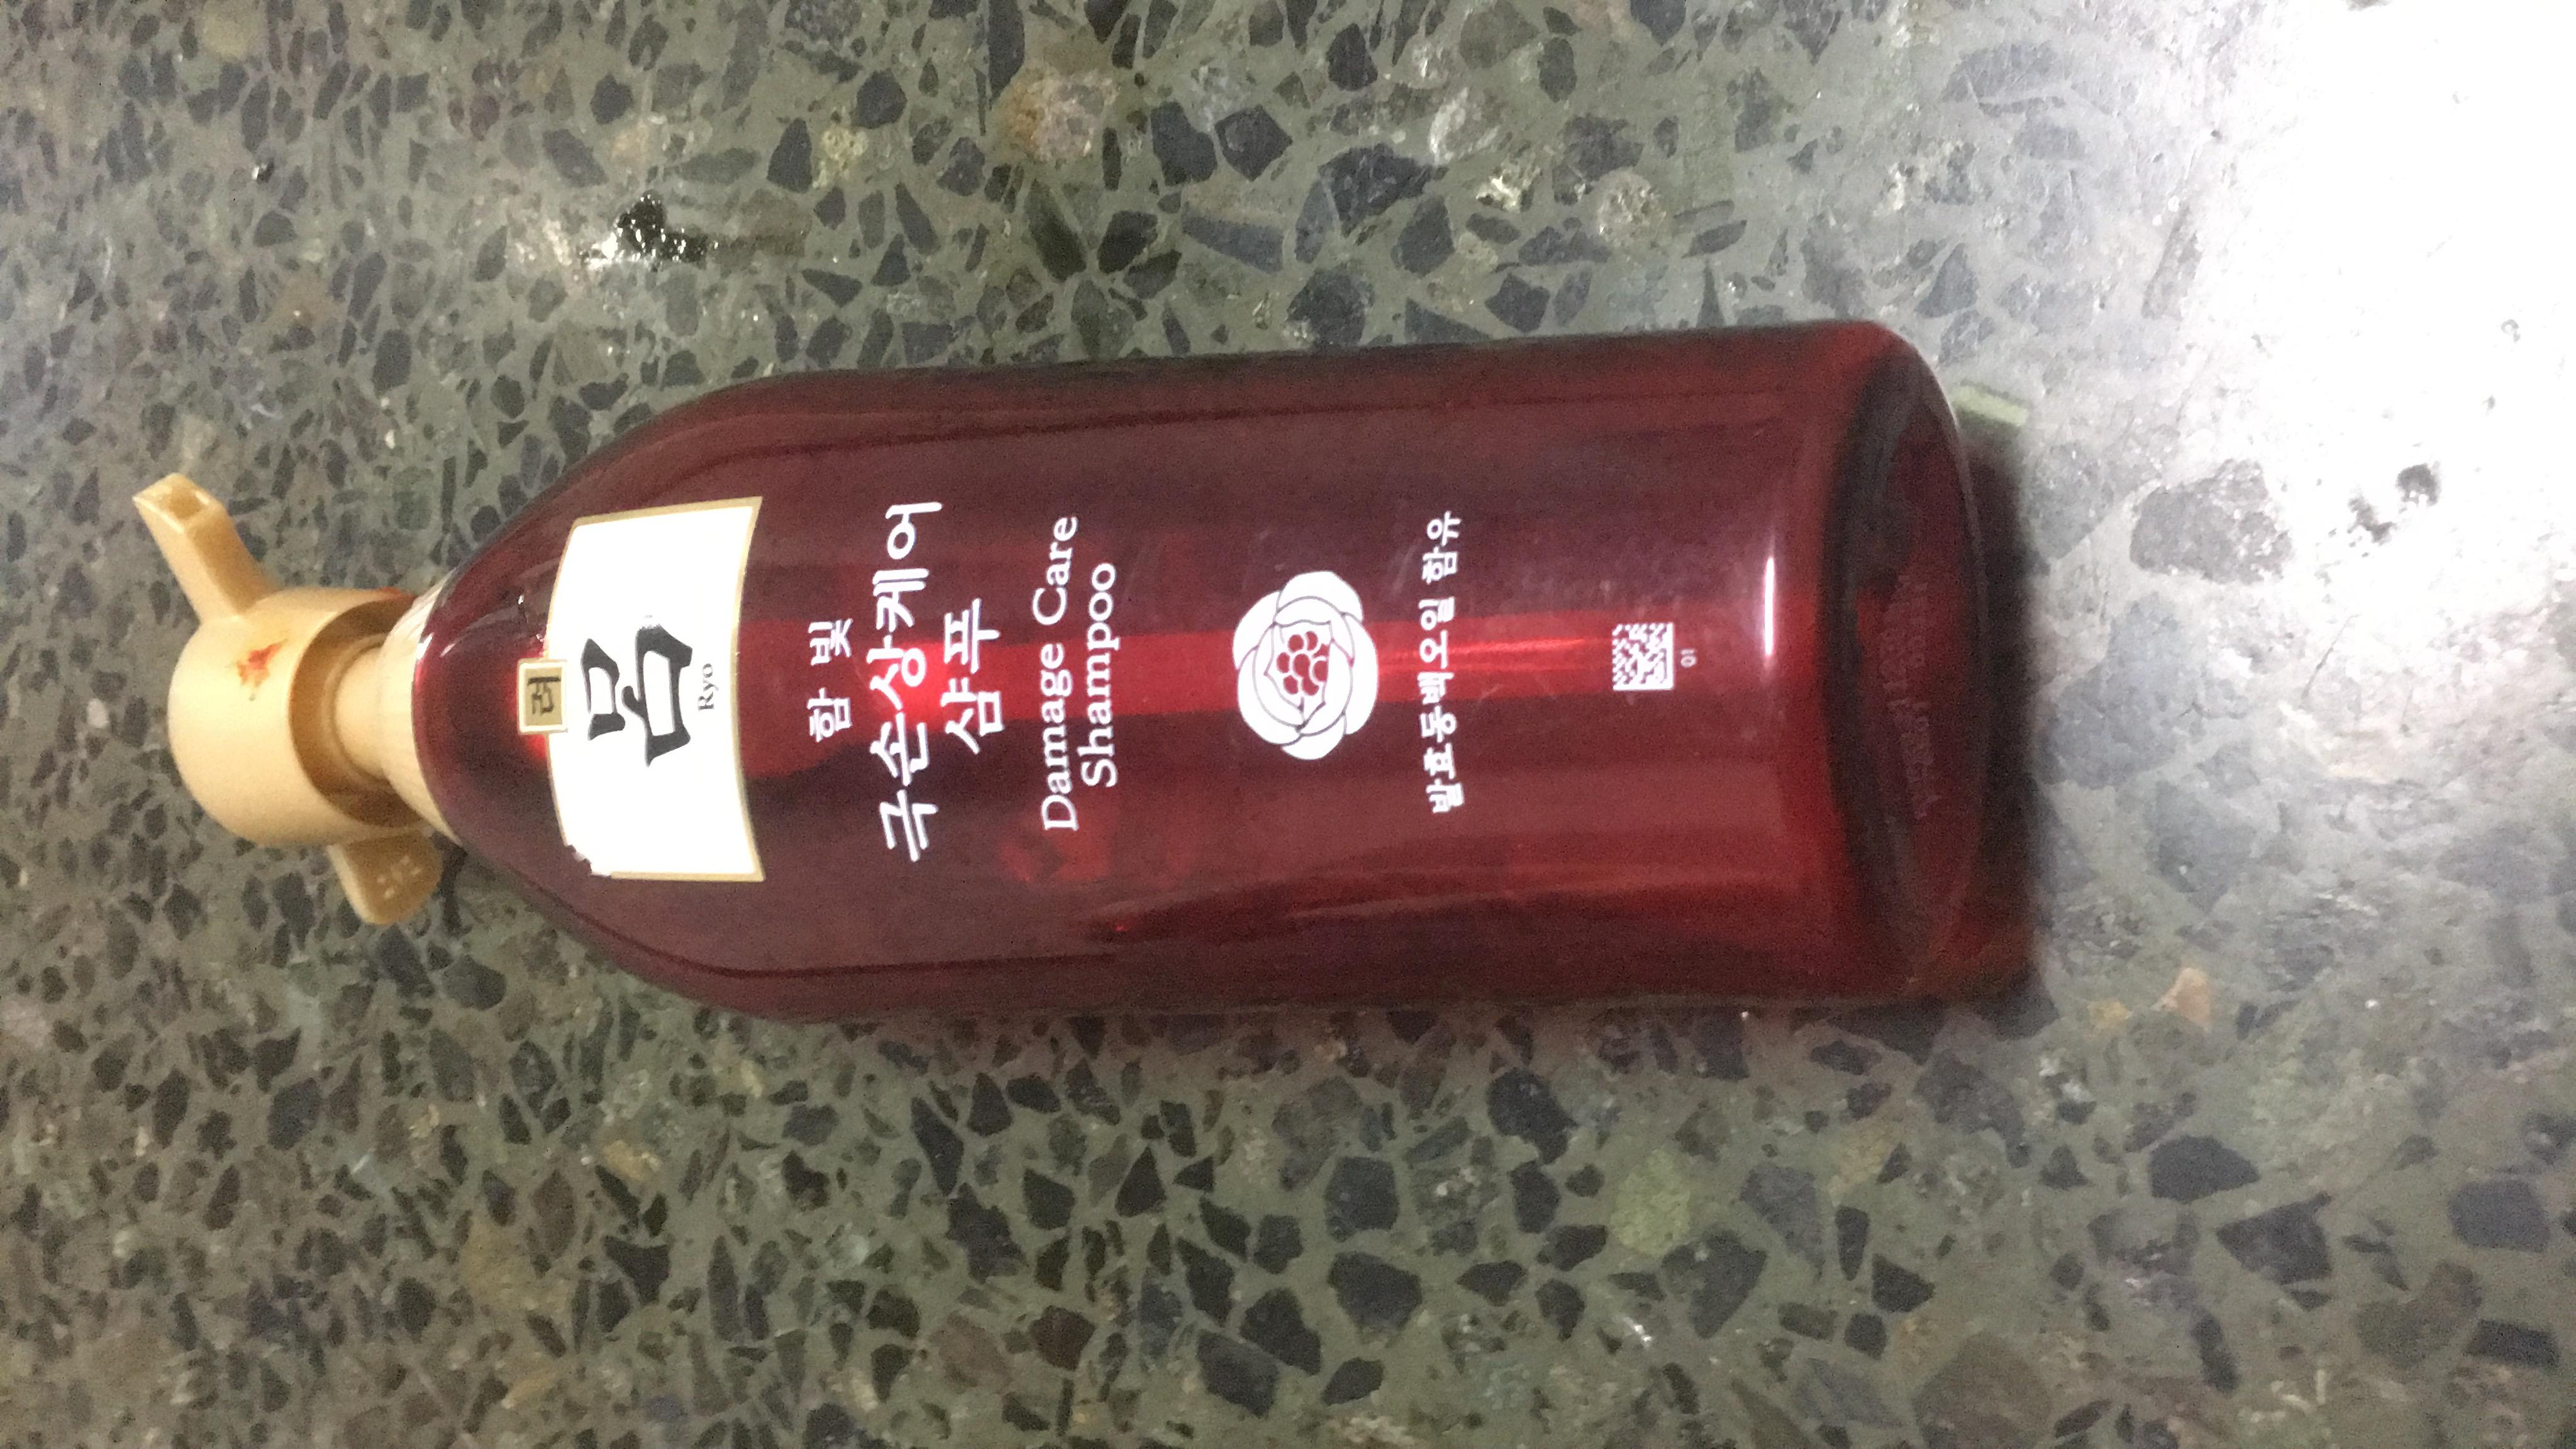bottle: (520, 0, 2001, 1148)
